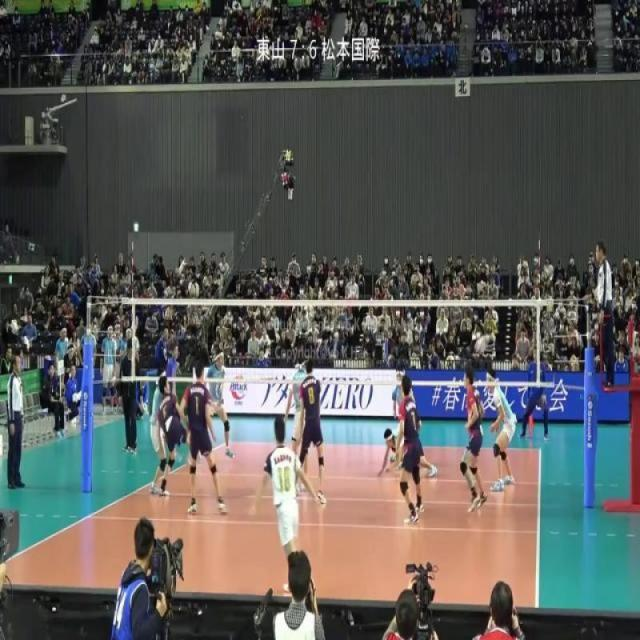volleyball: (473, 333, 491, 354)
